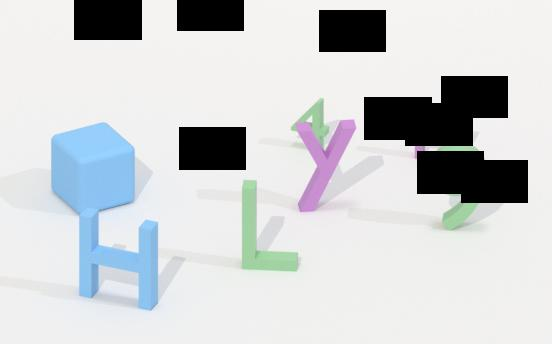4: (289, 96, 330, 151)
9: (427, 139, 489, 228)
H-hoa: (76, 205, 163, 313), (414, 99, 464, 163)
Y: (295, 118, 359, 218)
hop: (49, 120, 138, 218)
l: (240, 178, 301, 273)
